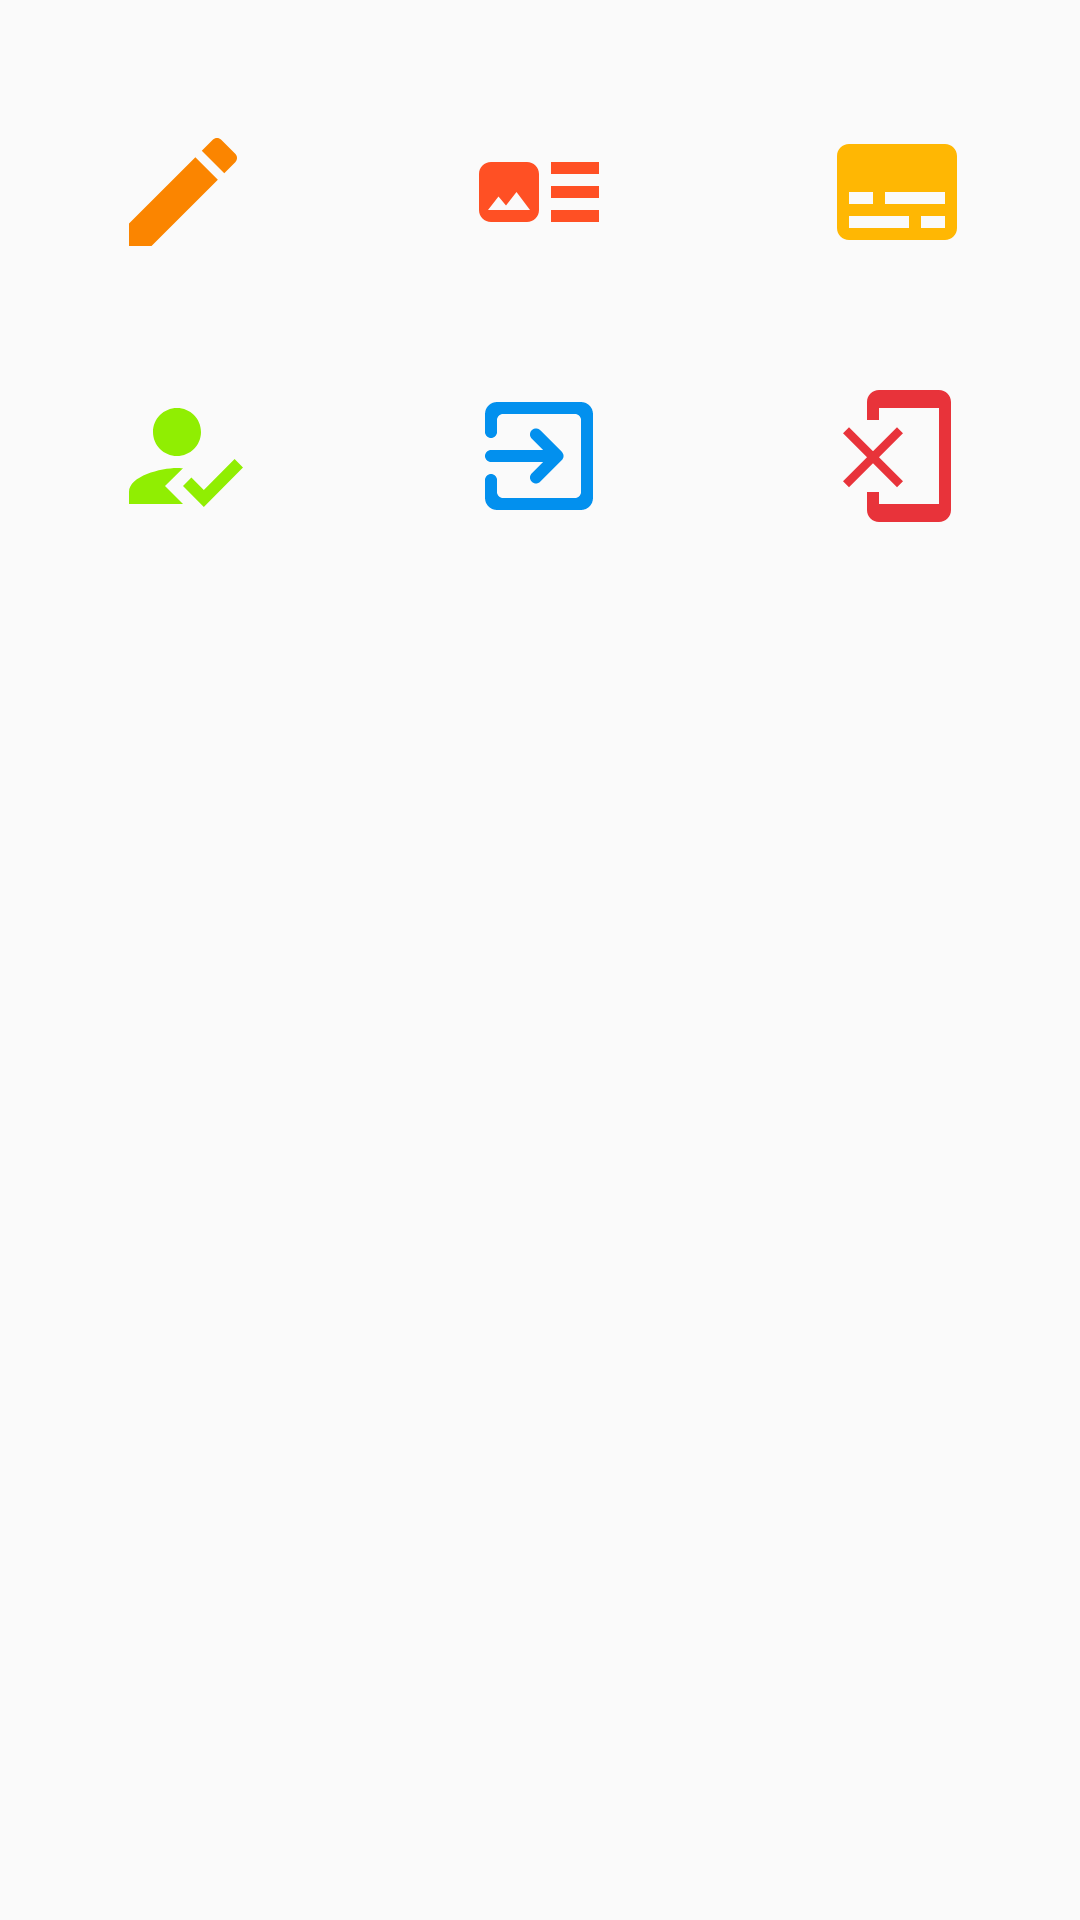

Locate icon controls on the screen. Image size 1080x1920, boxes as (x1, y1, x2, y2).
list: (479, 162, 599, 222)
login: (485, 402, 593, 510)
pencil: (129, 138, 237, 246)
reg user: (129, 408, 243, 507)
